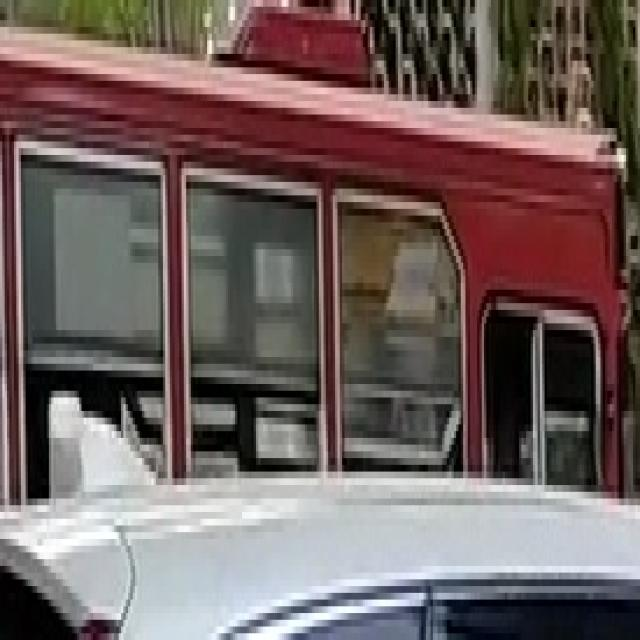door: (0, 6, 628, 498), (179, 155, 324, 472), (330, 182, 468, 471)
